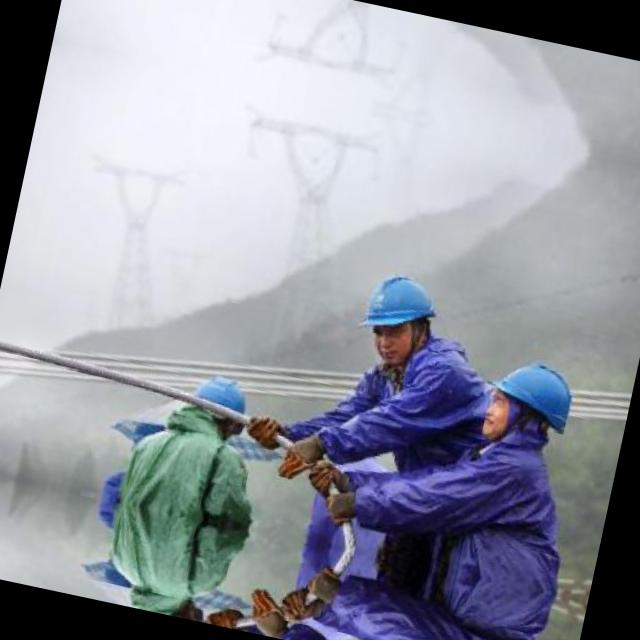helmet: (470, 348, 586, 466), (344, 258, 448, 374), (180, 368, 258, 440), (141, 591, 212, 622)
